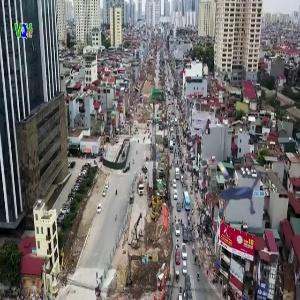drone: (194, 143, 281, 230)
